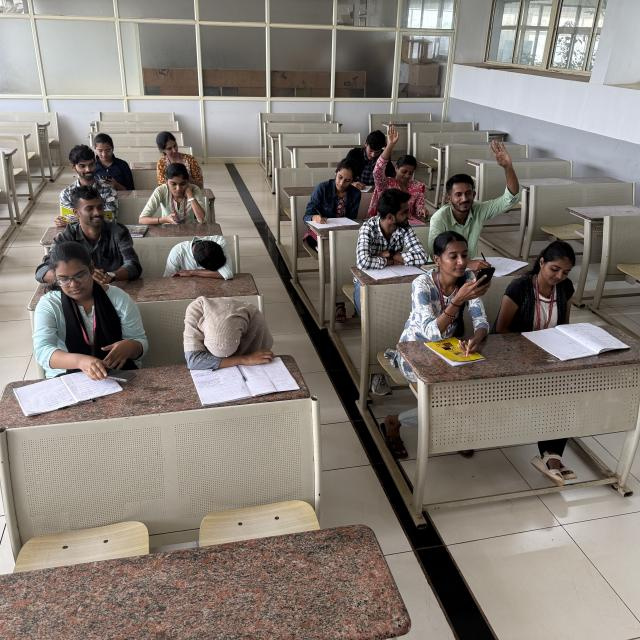Hand Rising: (438, 138, 522, 237), (376, 122, 432, 204)
Reading: (508, 239, 601, 350)
Sleeping: (178, 294, 286, 366), (164, 228, 243, 280)
Using Phone: (406, 229, 510, 363), (41, 192, 141, 287), (141, 164, 213, 230), (88, 130, 136, 192)
Writing: (302, 162, 361, 232)
